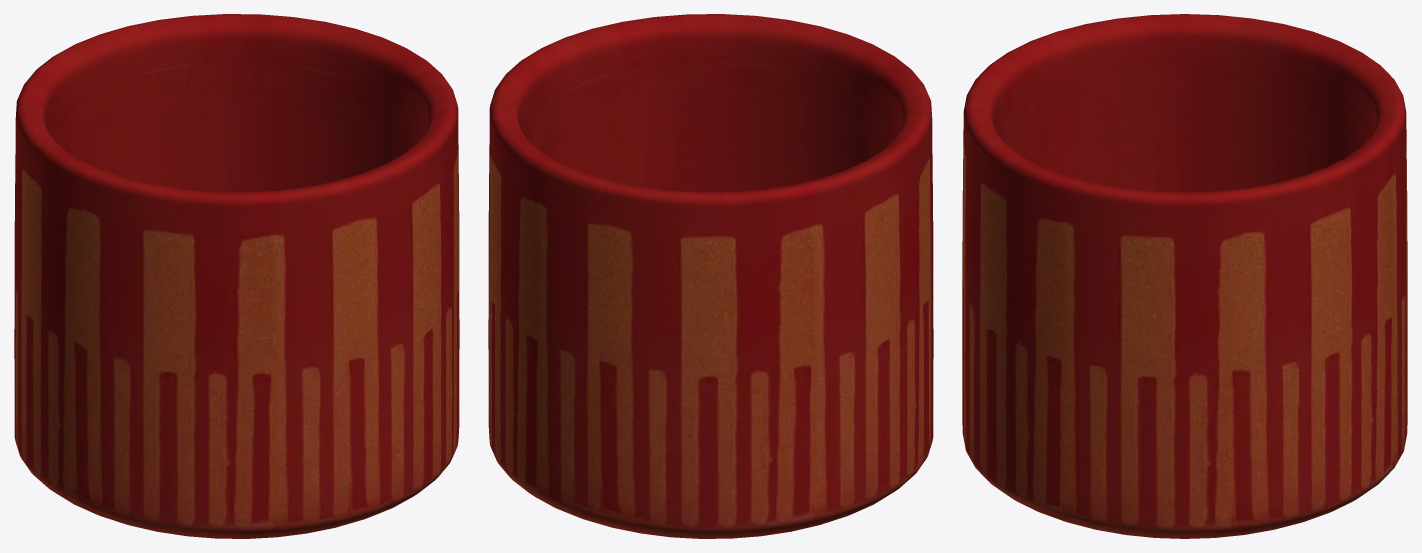
File: abo-B078JH73F4.glb
3 views of the same model, side by side, from view 1: azimuth 30°, elevation 25°; view 2: azimuth 150°, elevation 25°; view 3: azimuth 270°, elevation 25° (orthographic).
Bounding box in the file's own units: 0.23 × 0.202 × 0.23.
1 material, 1 textured.
